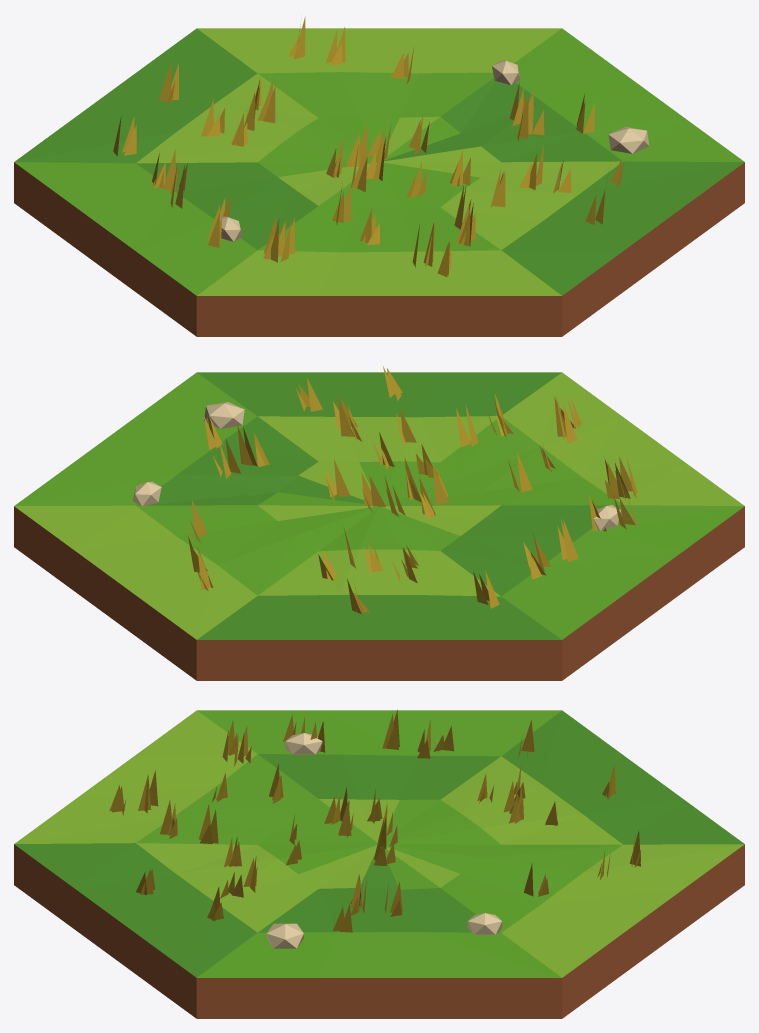
The model's file is SM_Llanura_A_LOD0.fbx.
The picture shows the model from 3 angles, top to bottom: view 1: azimuth 30°, elevation 25°; view 2: azimuth 150°, elevation 25°; view 3: azimuth 270°, elevation 25°; orthographic projection.
Visible parts, largest first — view 1: SM_Llanura_A_LOD0; view 2: SM_Llanura_A_LOD0; view 3: SM_Llanura_A_LOD0.
Part boxes in pixels (<box>): SM_Llanura_A_LOD0: <box>14,16,744,336</box>; SM_Llanura_A_LOD0: <box>14,366,744,680</box>; SM_Llanura_A_LOD0: <box>14,709,744,1018</box>.
Bounding box in the file's own units: 1.68 × 0.24 × 1.94.
